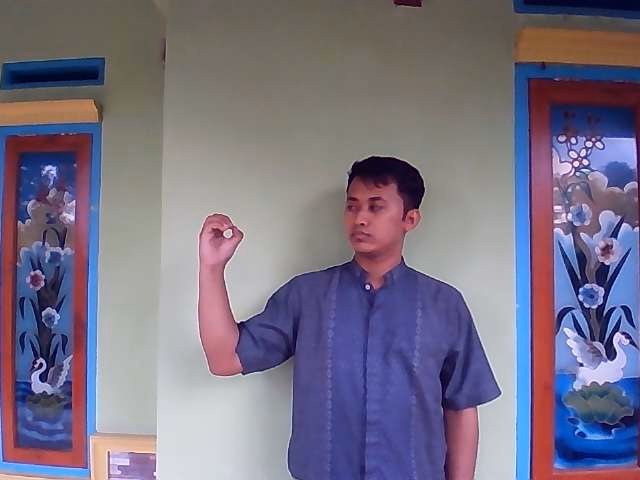O: (195, 211, 244, 268)
